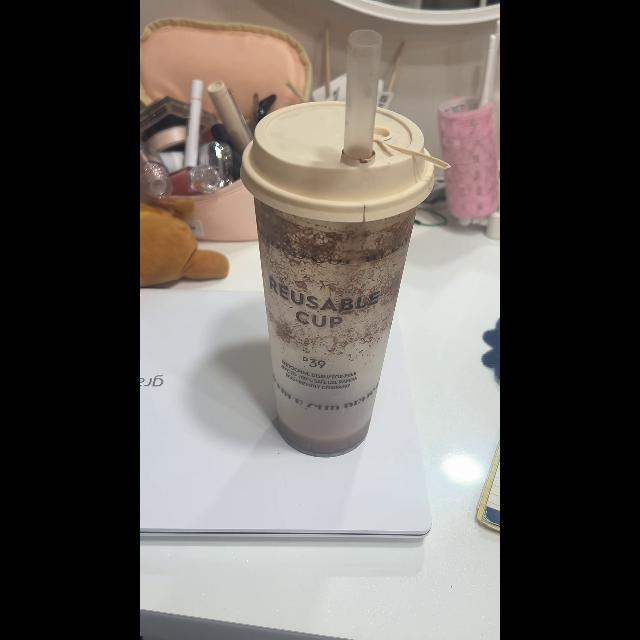dirty: (252, 100, 416, 458)
